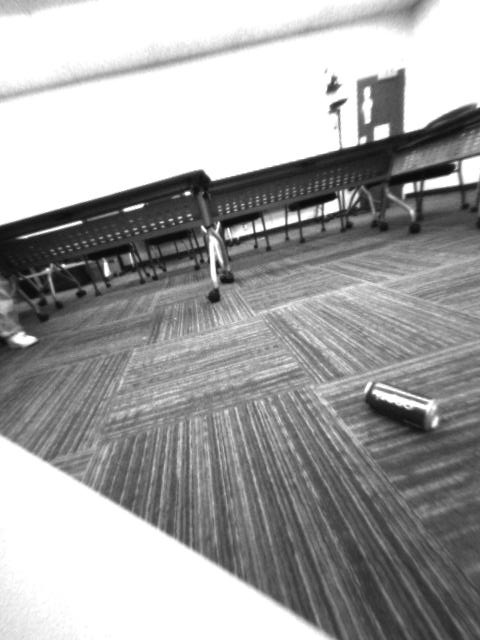can: (359, 378, 442, 432)
